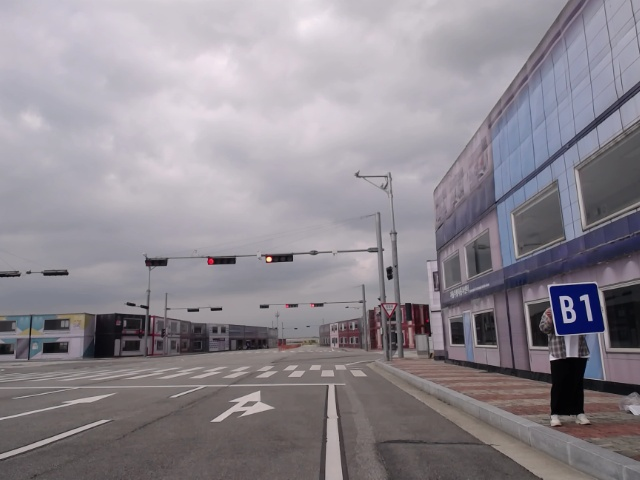delivery_b1: (549, 282, 606, 336)
red_4: (208, 257, 236, 265), (266, 255, 294, 263), (285, 303, 298, 308), (310, 303, 324, 307)
